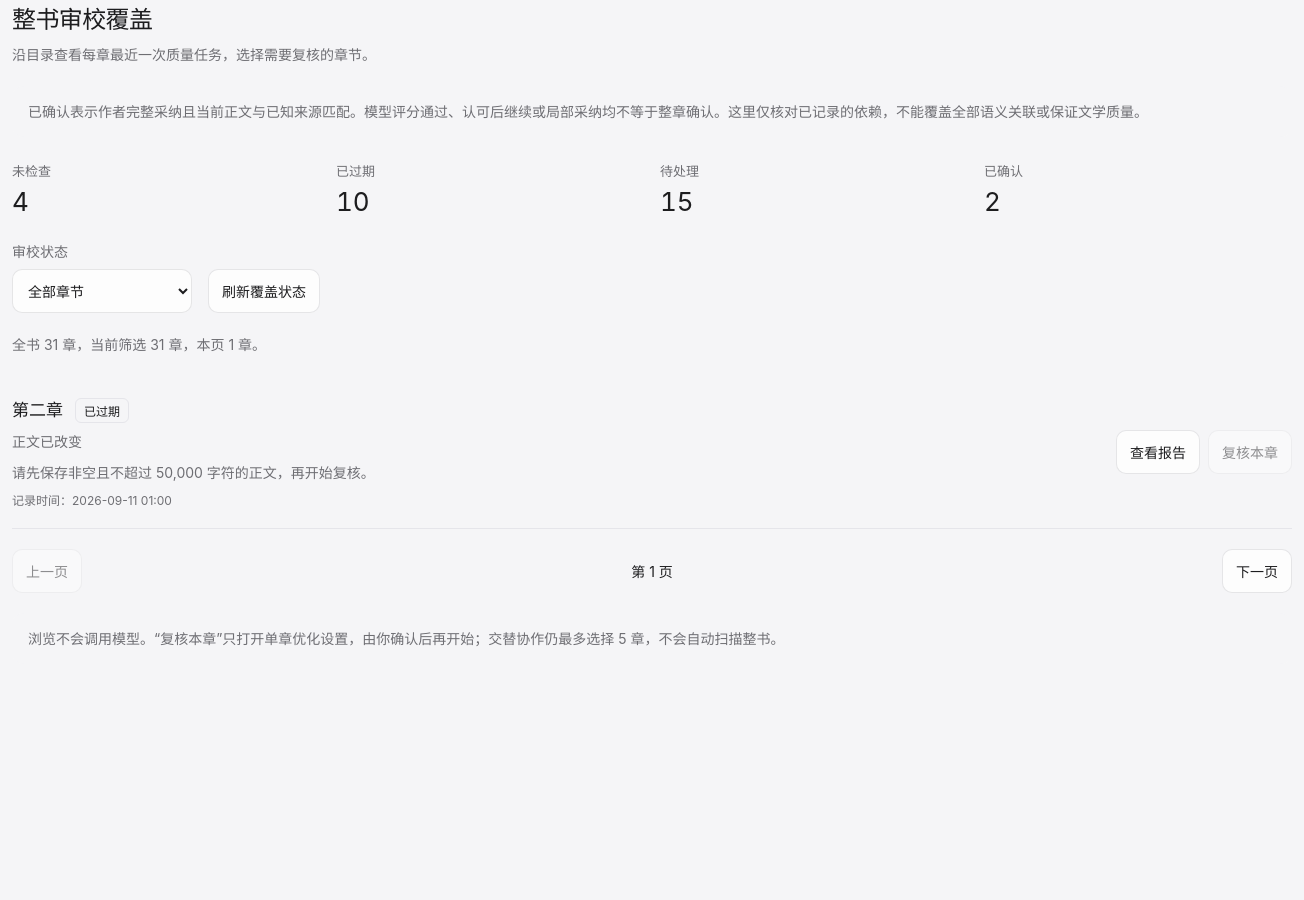
it: keeps the report list on navigation errors and prevents empty-body review
The width and height of the screenshot is (1304, 900).
Expected: the button "复核本章" is disabled, [1208,430,1292,474]
Click the button "查看报告" at (1158, 452), box [1116,430,1200,474]
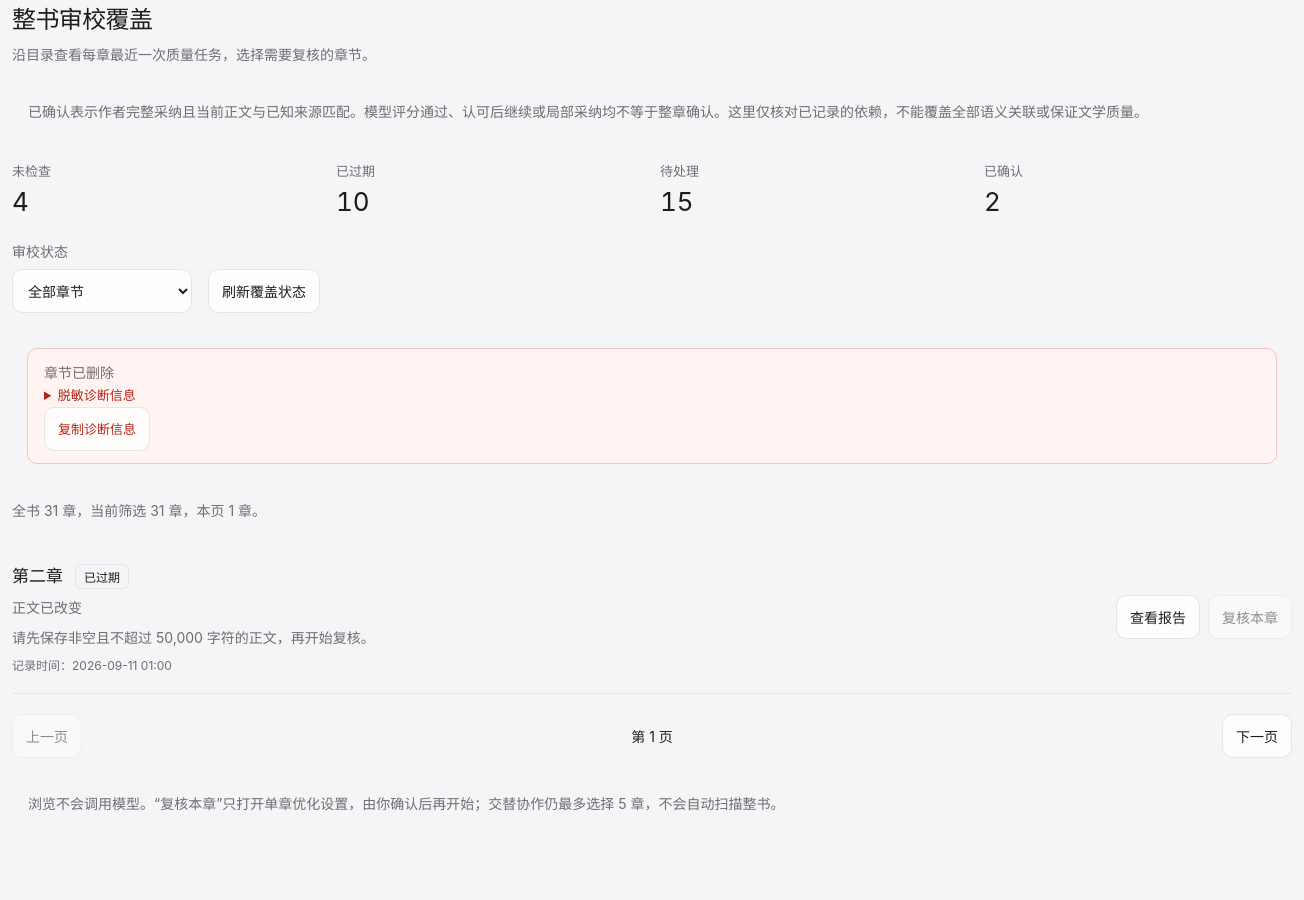
Expected: the heading "第二章" is shown, [12,562,63,587]
Now the message "章节已删除 脱敏诊断信息 复制诊断信息" is shown, box [27,348,1277,464]
